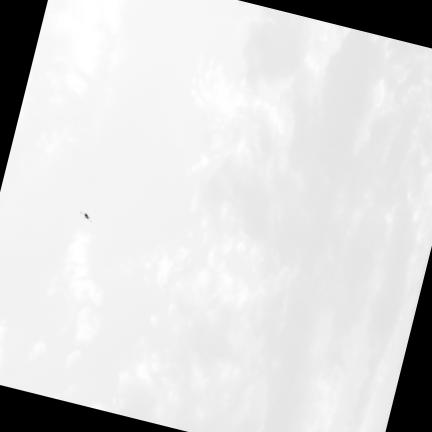Shahed: (79, 210, 91, 220)
